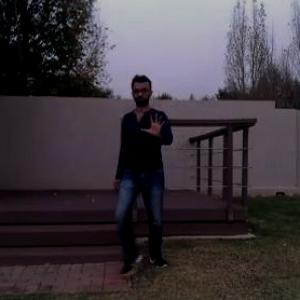follow_hand: (142, 108, 169, 140)
